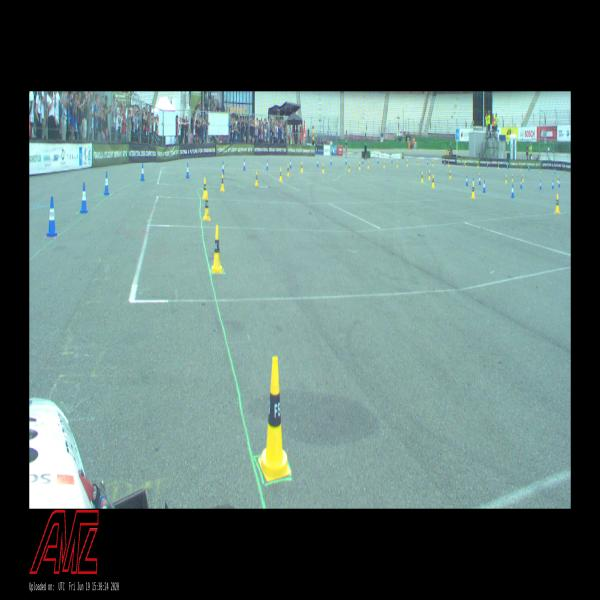blue_cone: (47, 197, 57, 237), (80, 183, 88, 213), (103, 172, 110, 195), (141, 164, 145, 180), (186, 163, 190, 178), (510, 184, 514, 198), (482, 180, 485, 192), (465, 175, 468, 186), (243, 159, 246, 170), (539, 180, 542, 190), (222, 161, 224, 174), (266, 160, 268, 170), (290, 159, 292, 169), (520, 179, 522, 188), (316, 158, 318, 167), (552, 180, 554, 188), (330, 157, 332, 165), (479, 176, 481, 184), (558, 180, 560, 188), (377, 158, 379, 164), (391, 157, 393, 163), (444, 160, 446, 166), (554, 168, 556, 174), (362, 156, 363, 164), (528, 166, 530, 170), (427, 158, 428, 164), (507, 163, 508, 169), (464, 162, 465, 167), (487, 163, 488, 168), (346, 157, 346, 164)
yellow_cone: (258, 356, 291, 481), (211, 225, 223, 273), (203, 193, 210, 220), (554, 194, 560, 212), (220, 173, 225, 191), (202, 177, 206, 199), (471, 183, 475, 198), (286, 163, 290, 176), (255, 170, 258, 186), (279, 168, 282, 182), (432, 175, 434, 188), (301, 161, 303, 172), (428, 170, 430, 180), (322, 163, 324, 173), (421, 172, 423, 182), (449, 170, 451, 179), (505, 174, 507, 183), (383, 160, 385, 168), (348, 164, 350, 172), (367, 160, 369, 168), (396, 160, 398, 168), (406, 159, 408, 167), (522, 174, 524, 182), (564, 170, 566, 177), (432, 160, 434, 166), (464, 161, 466, 167), (520, 165, 522, 171), (512, 173, 513, 182), (359, 162, 360, 169), (417, 159, 418, 166), (448, 160, 449, 167), (477, 161, 478, 168), (557, 176, 558, 183), (498, 163, 499, 169), (540, 168, 541, 174)
